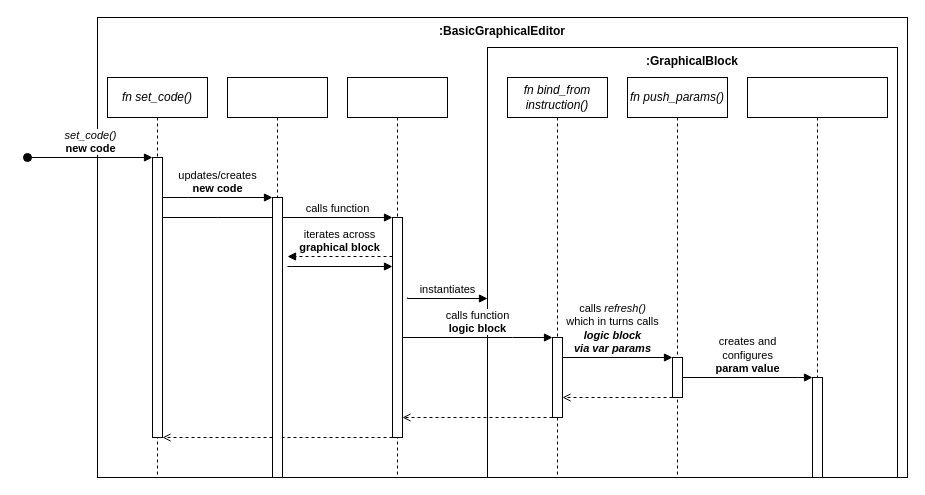
This 925x495 diagram has some shape labels left out. Each missing label, with the box of its shape:
:parameter nodes: (746, 76, 888, 478)
draft_code: (226, 76, 328, 478)
fn push_code(): (346, 76, 448, 478)
